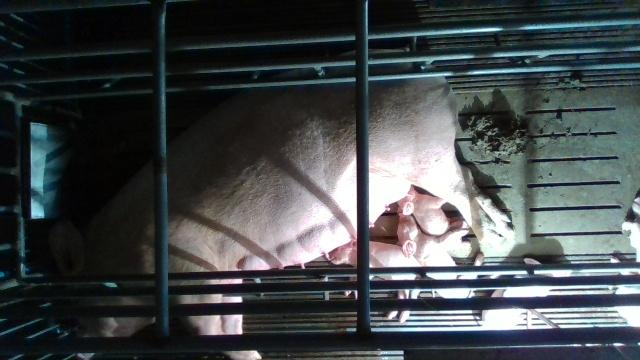piglet: (324, 238, 420, 324), (393, 213, 484, 300), (481, 258, 569, 328), (396, 183, 476, 237), (612, 191, 639, 325)
sow-sleep-lactate: (52, 63, 508, 360)
